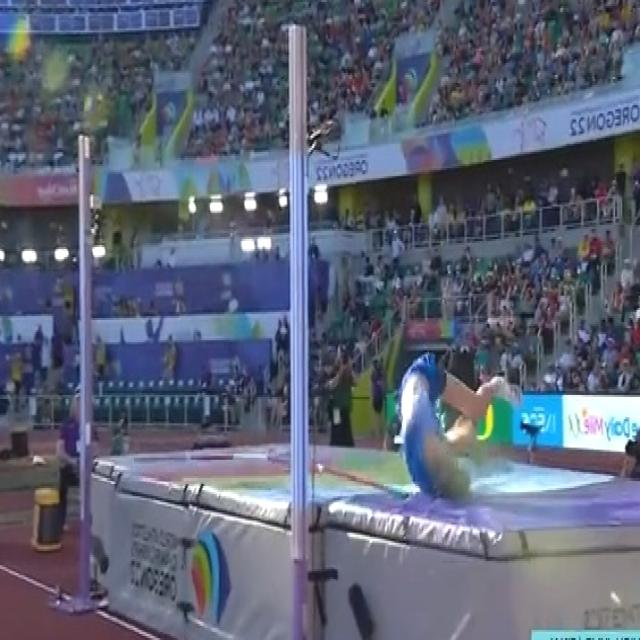land: (394, 351, 524, 495)
